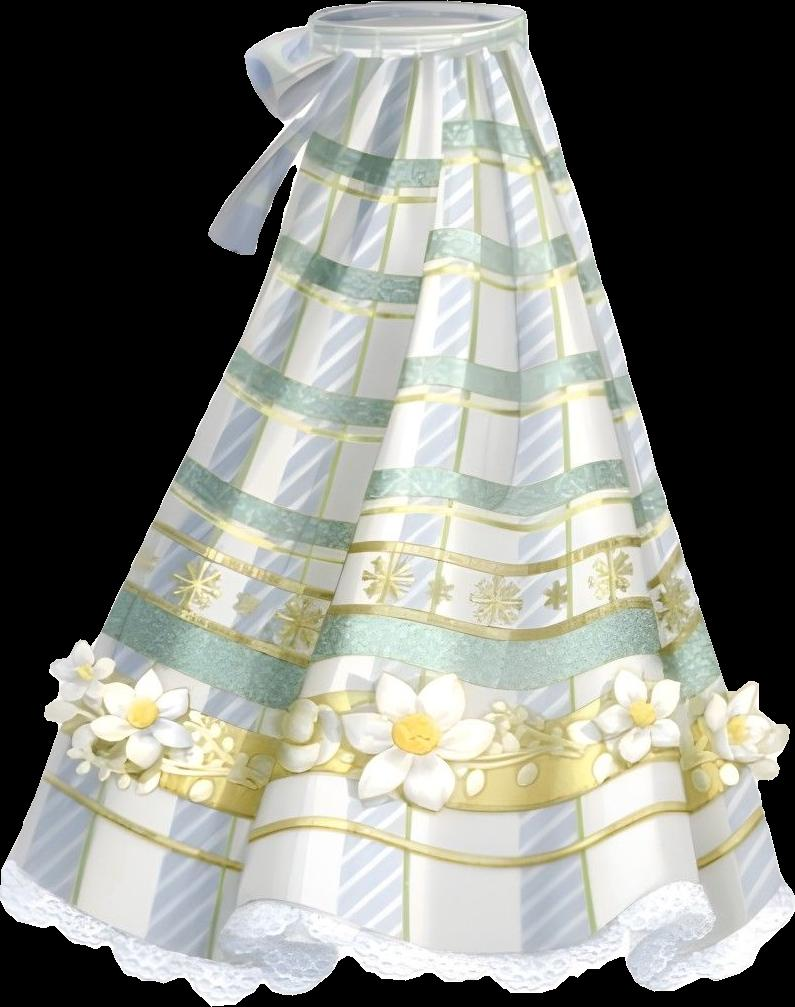Hemline: (0, 864, 794, 1006)
Waistline: (306, 10, 532, 38)
